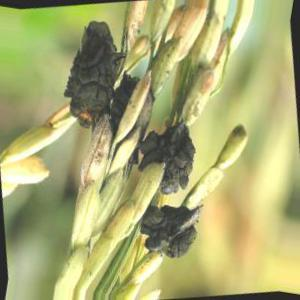False Smut: (74, 16, 109, 121), (152, 126, 196, 202), (139, 209, 191, 261)
